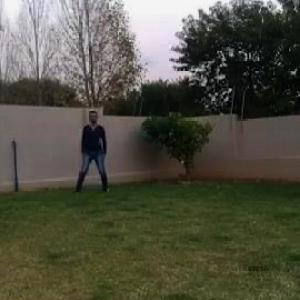follow: (84, 109, 103, 190)
